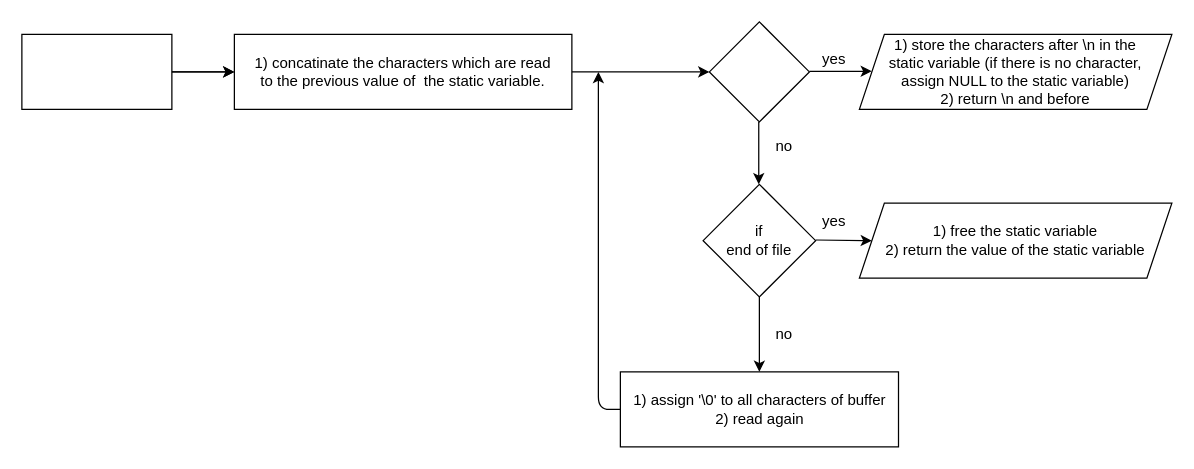
Image size: 1194x469. Some labels were removed from this diagram. Here are the shapes that lost their labels. From the top down, the centre of each, then its label:
At point (96, 71): "get_next_line() read()".
At point (758, 71): "if \n".
